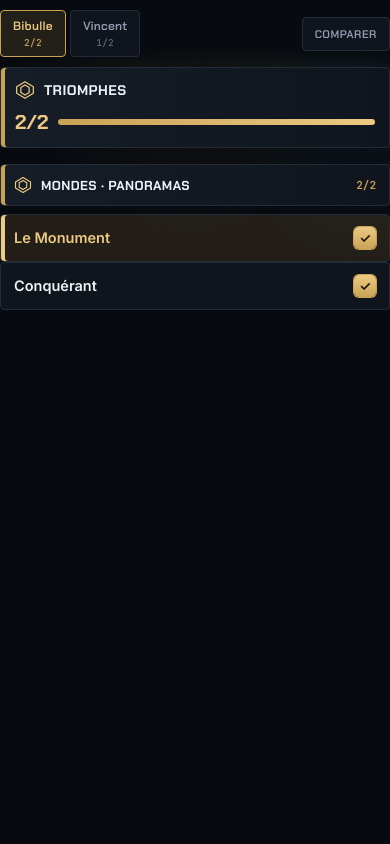
MobileView › opens detail sheet on card tap
Click the text "Le Monument" at point(62, 237), box [14, 229, 110, 246]
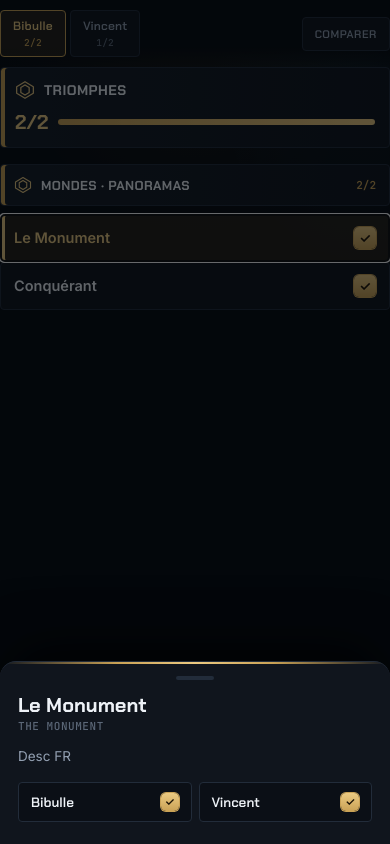
Now the text "Desc FR" is shown, box [18, 748, 71, 764]
Now the text "The Monument" is shown, box [18, 719, 104, 733]
